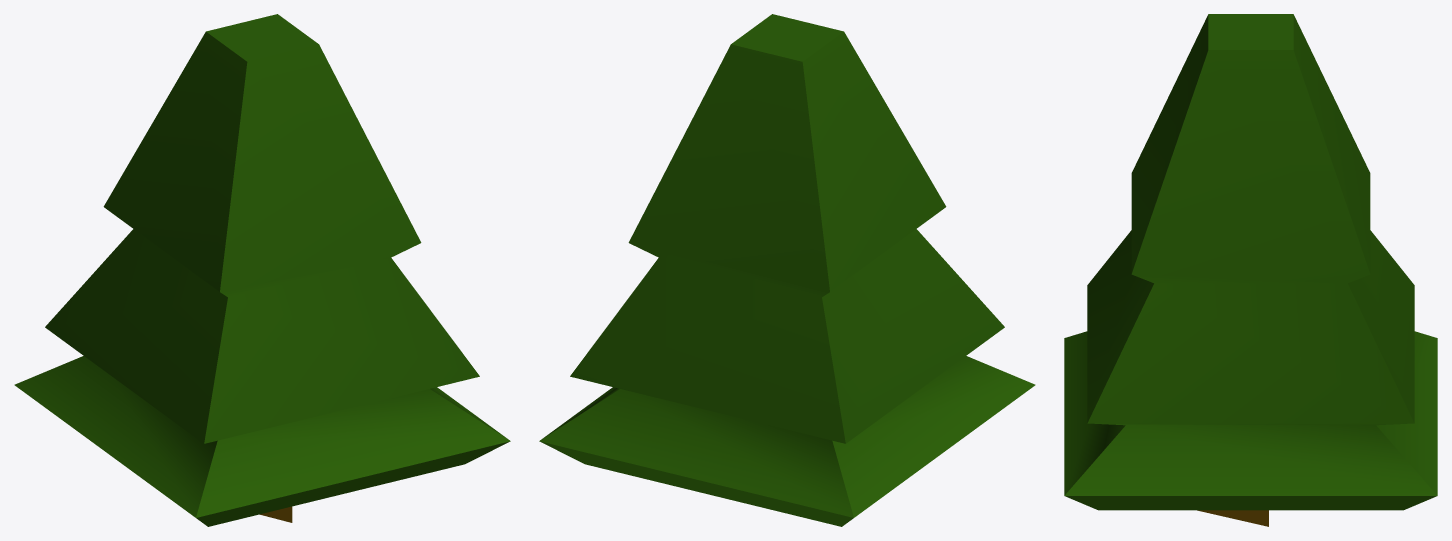
File: treetop.fbx
3 renders of one model, left to right at view 1: azimuth 30°, elevation 25°; view 2: azimuth 150°, elevation 25°; view 3: azimuth 270°, elevation 25°, orthographic. The views are drawn at different scales.
Parts seen in each view (by area): view 1: treetemp:treetemp:polySurface1; view 2: treetemp:treetemp:polySurface1; view 3: treetemp:treetemp:polySurface1.
Boxes of the visible parts, left/top/right/bottom form: treetemp:treetemp:polySurface1: left=14, top=14, right=510, bottom=526; treetemp:treetemp:polySurface1: left=539, top=14, right=1035, bottom=526; treetemp:treetemp:polySurface1: left=1064, top=14, right=1437, bottom=526.
Size of the model in its own units: 101 by 142 by 101.
Materials: 1 (1 with a texture image).
